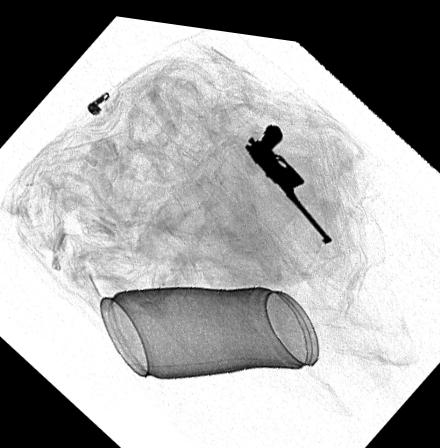Gun: (244, 118, 335, 236)
